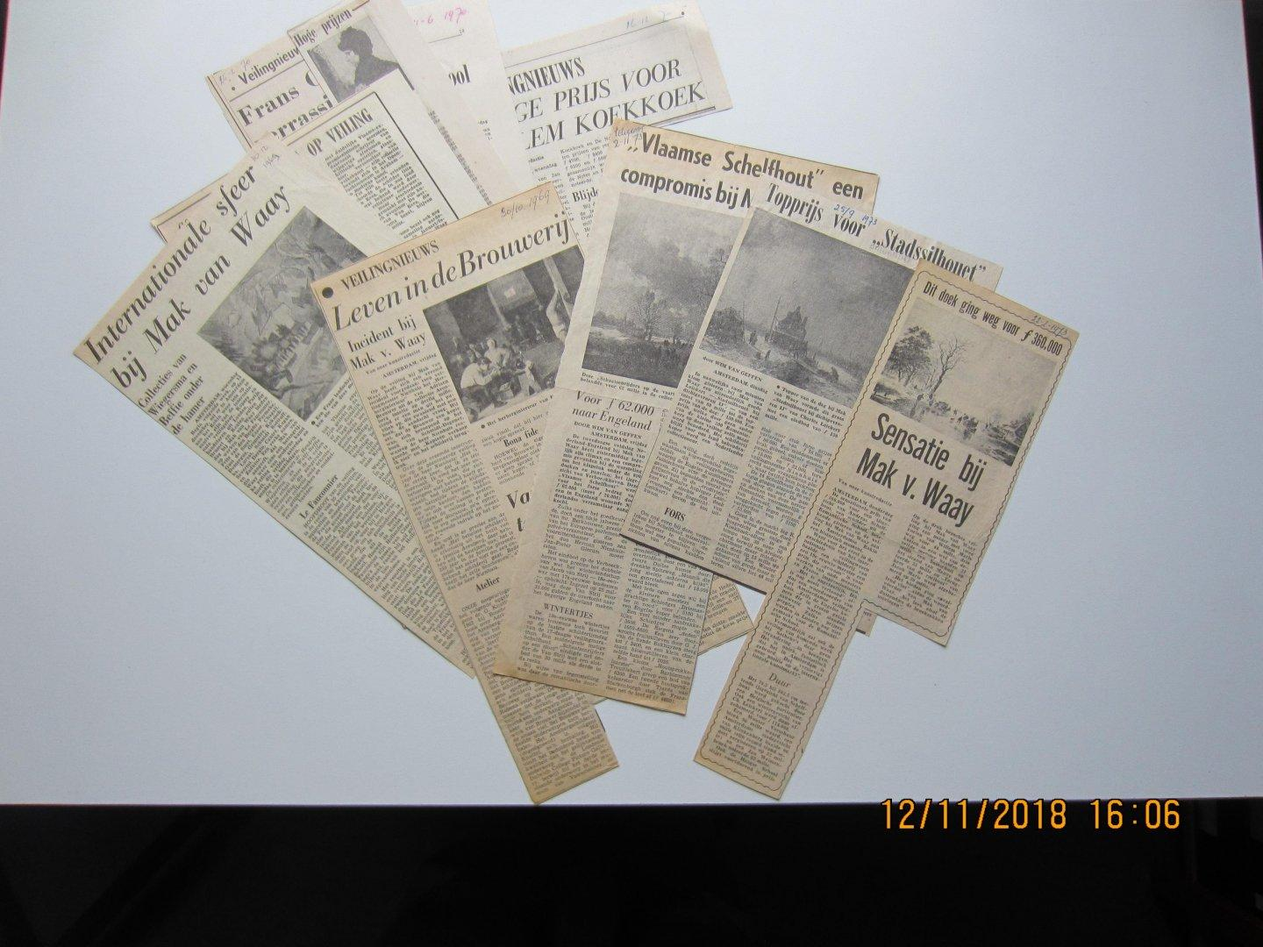paper: (73, 0, 1078, 803)
